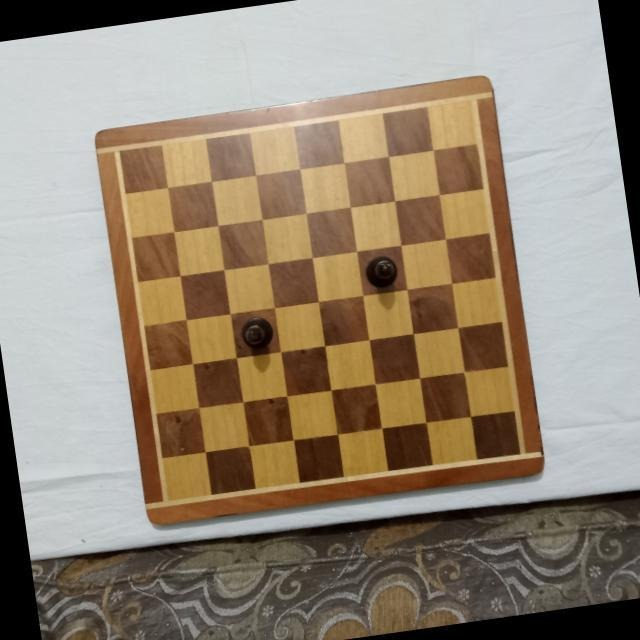black-bishop: (361, 252, 400, 290), (238, 312, 277, 350)
